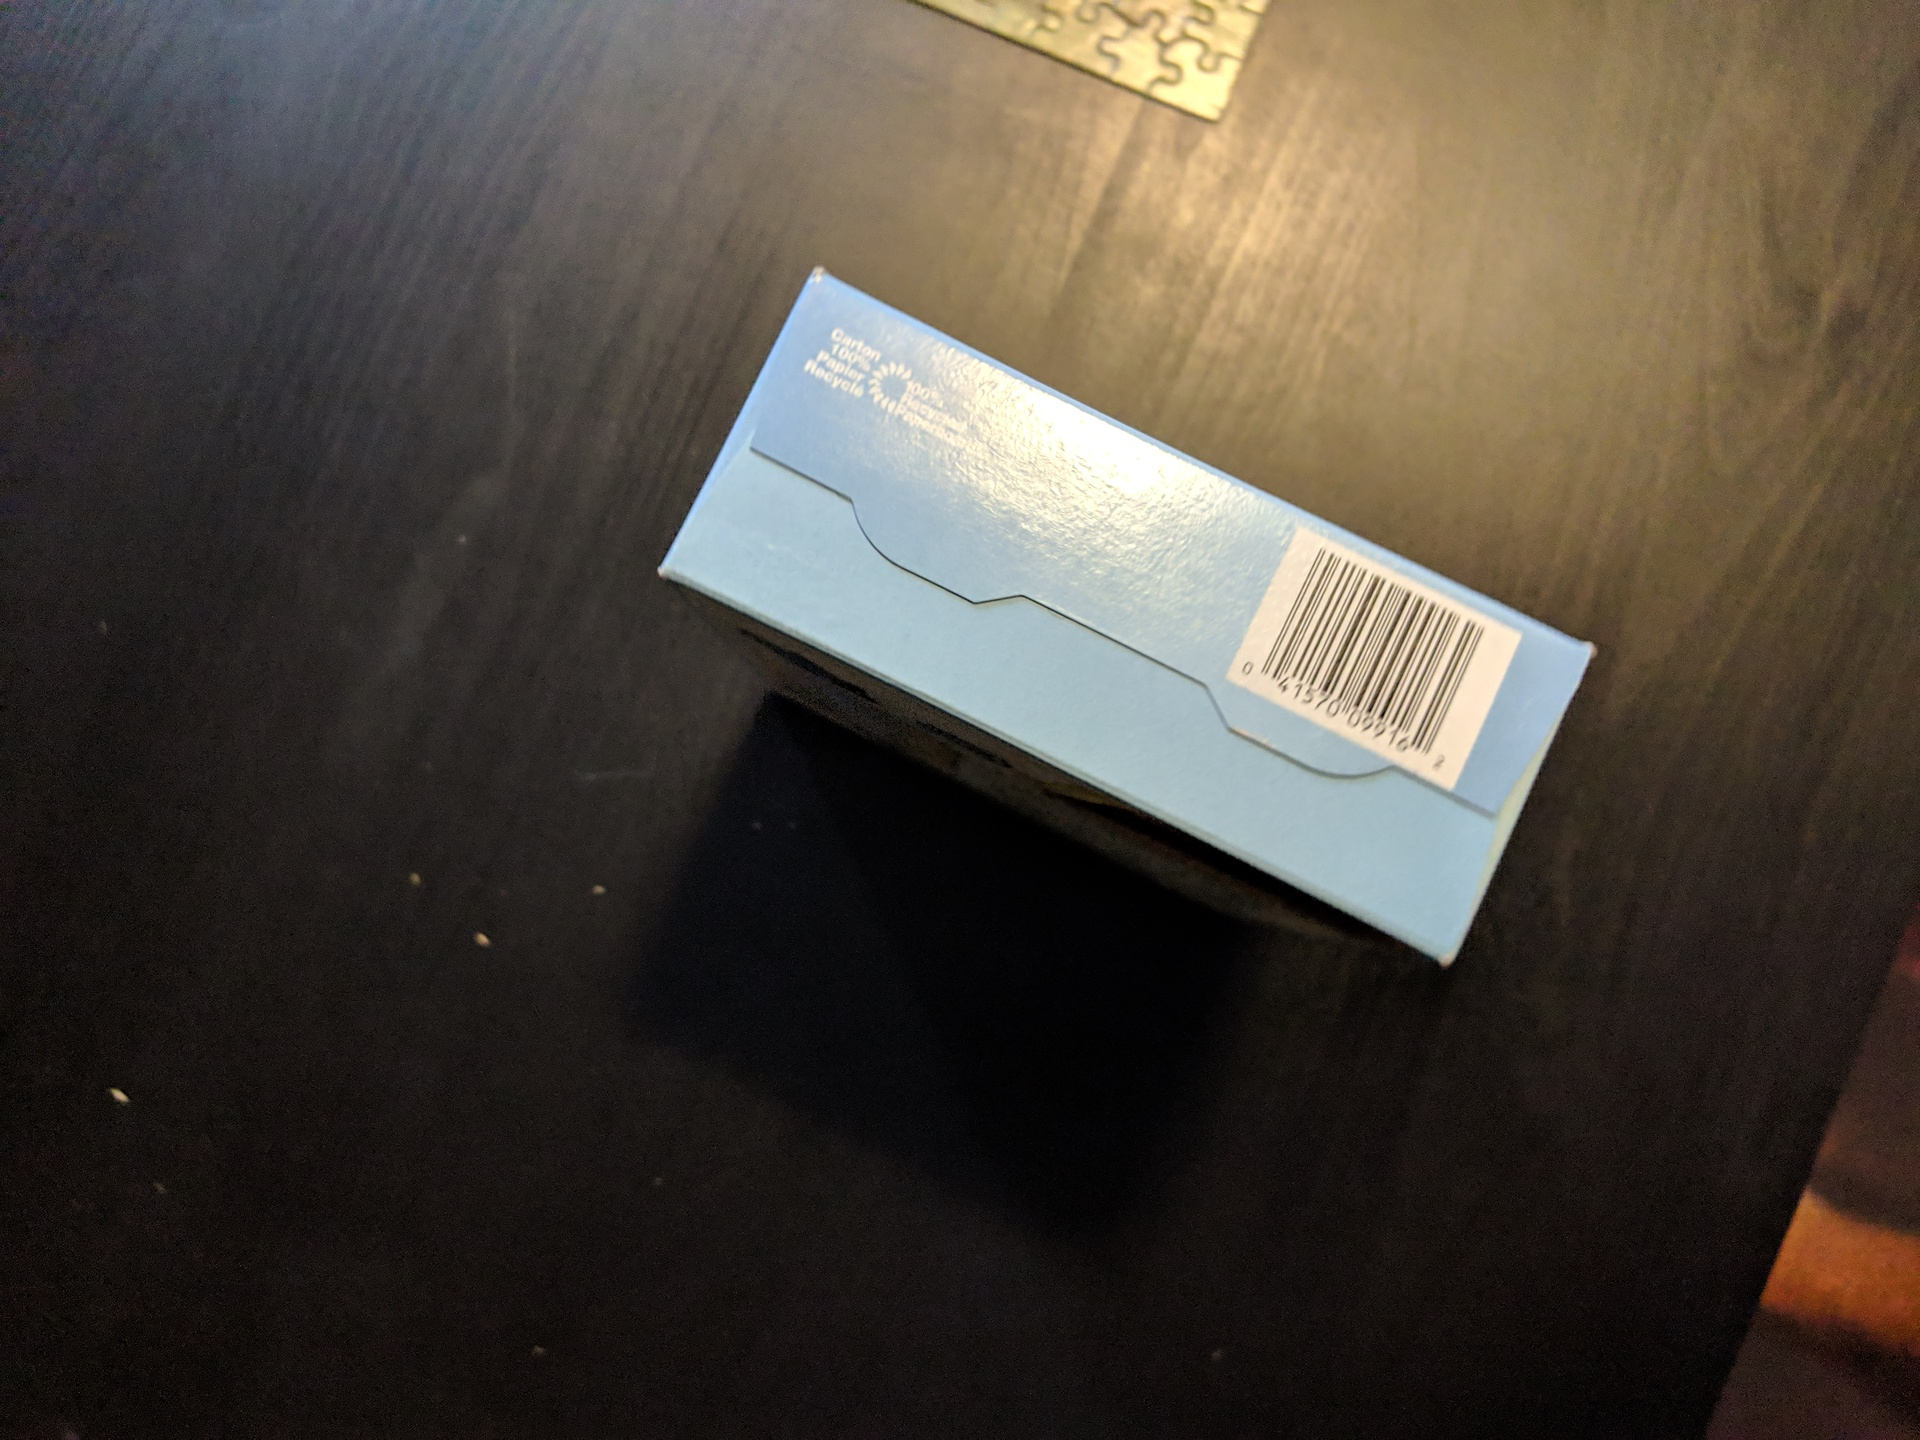blue_diamond_nut_thins_almond_seasalt: (723, 343, 1521, 880)
